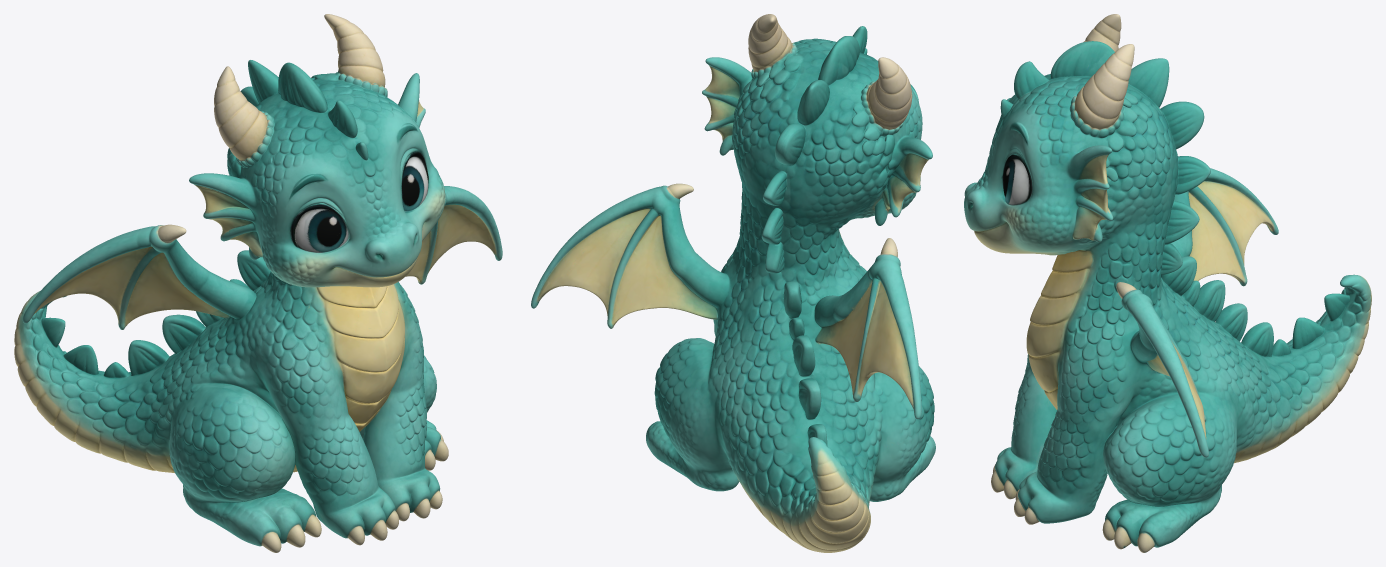
The model's file is source.glb.
3 views of the same model, side by side, from view 1: azimuth 30°, elevation 25°; view 2: azimuth 150°, elevation 25°; view 3: azimuth 270°, elevation 25° (orthographic). The views are drawn at different scales.
Visible parts, largest first — view 1: cartoon-dragon; view 2: cartoon-dragon; view 3: cartoon-dragon.
Boxes of the visible parts, left/top/right/bottom form: cartoon-dragon: left=14, top=14, right=502, bottom=552; cartoon-dragon: left=531, top=14, right=935, bottom=552; cartoon-dragon: left=964, top=14, right=1371, bottom=552.
Size of the model in its own units: 0.8826 by 0.8999 by 0.7316.
1 material, 1 textured.
